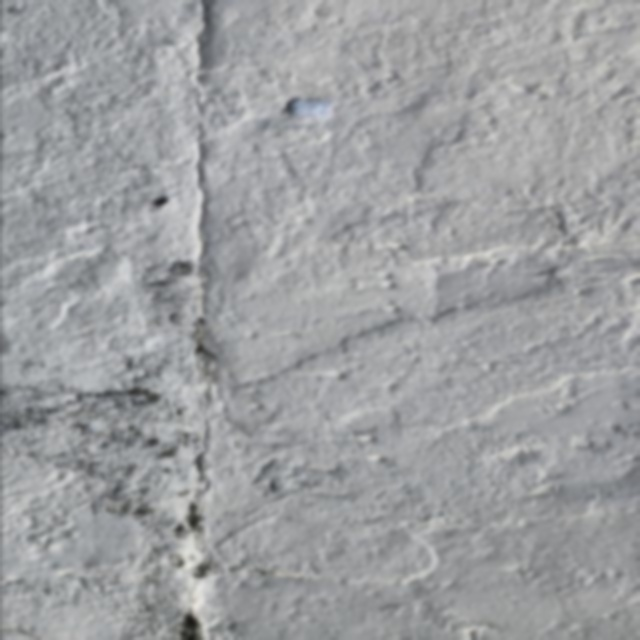SurfaceCrack: (156, 0, 260, 621)
